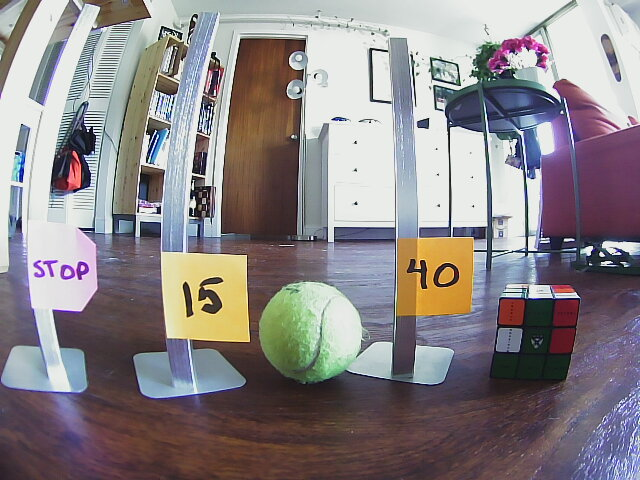15: (169, 259, 244, 339)
40: (398, 241, 468, 311)
ball: (257, 280, 367, 382)
cube: (496, 283, 578, 383)
stop: (31, 234, 91, 309)
